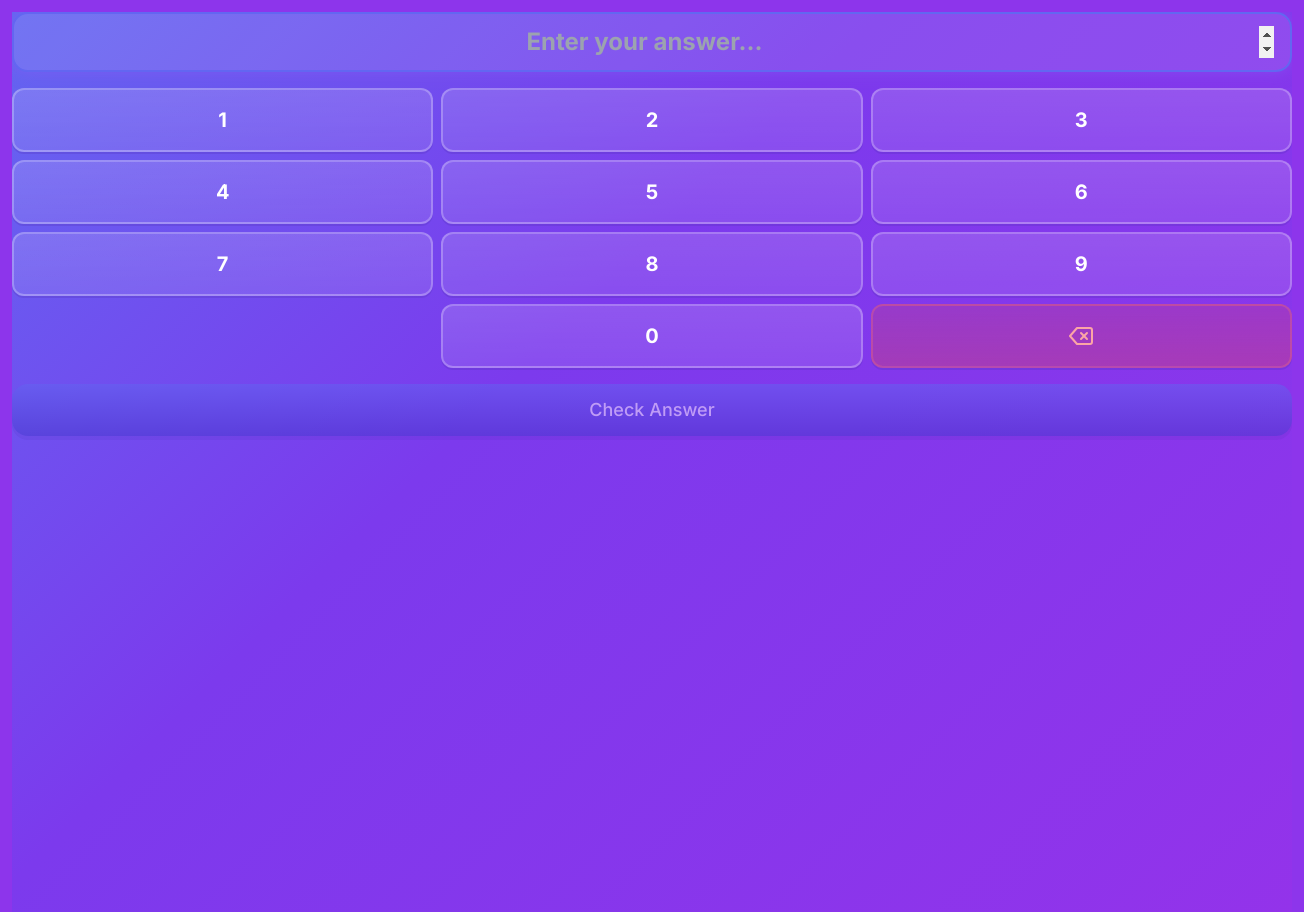
AnswerInput › number pad interaction › should delete last character when backspace is clicked
Click the button "1": (223, 120) [12,88,433,152]
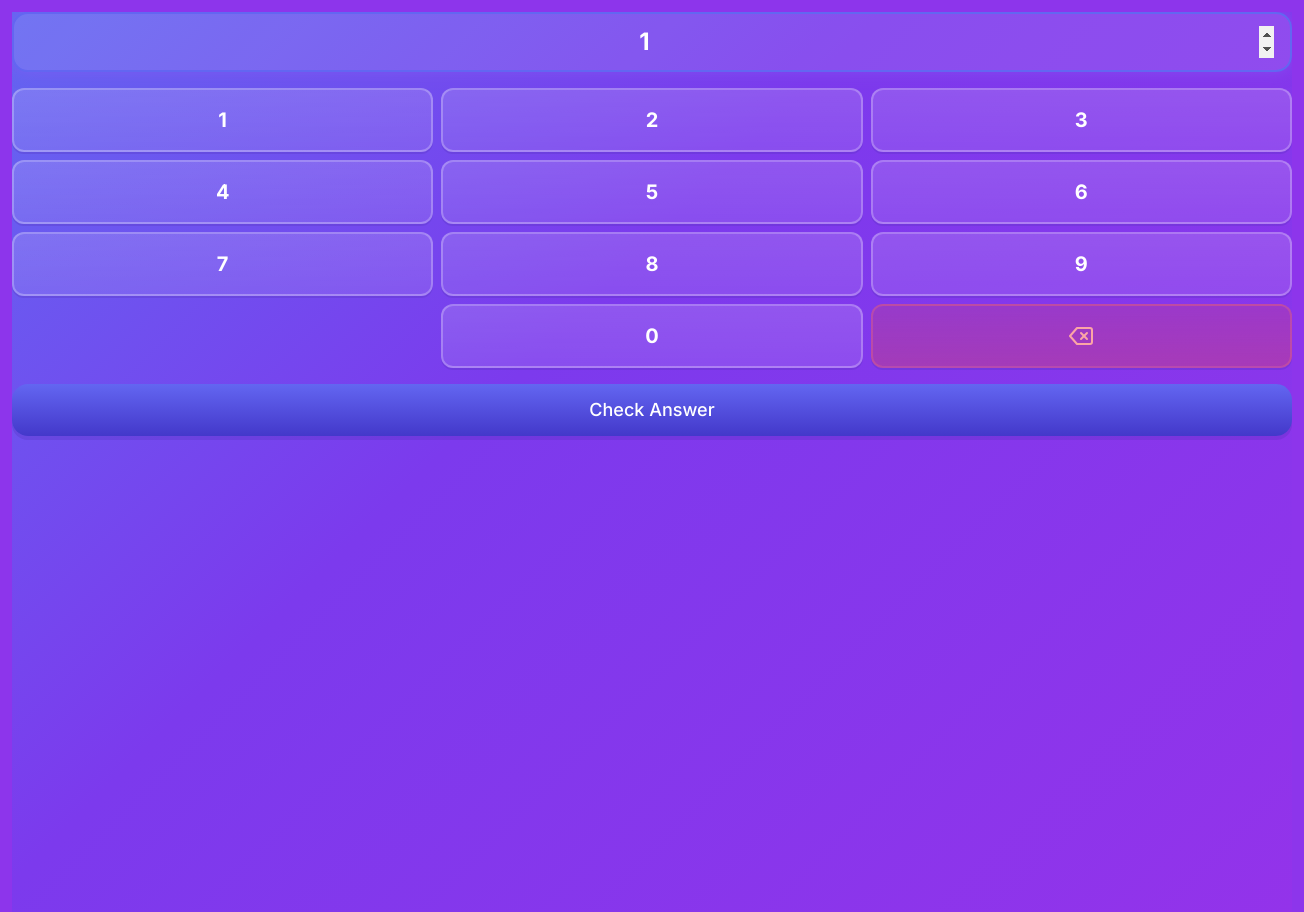
Click the button "5": (652, 192) [441,160,863,224]
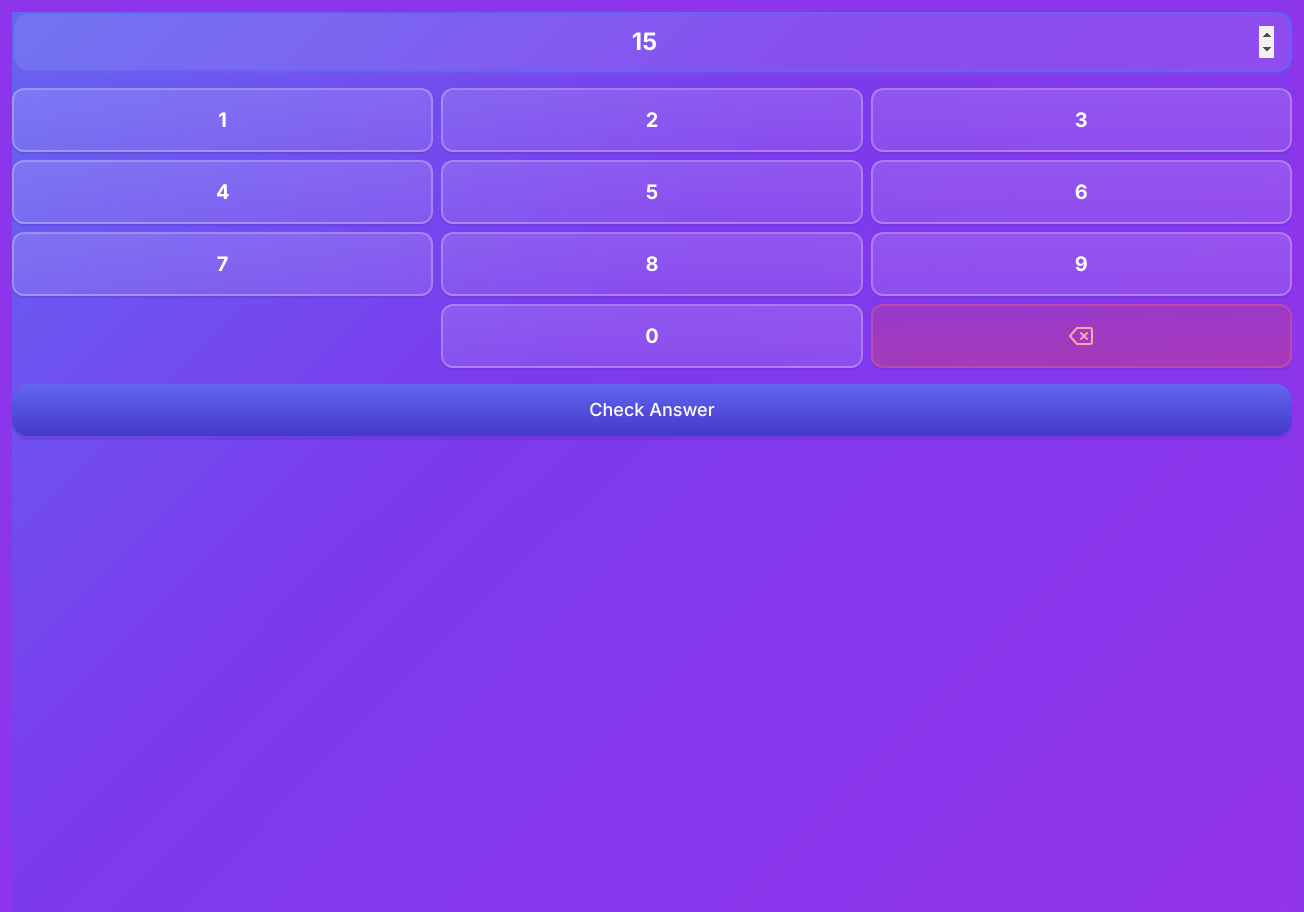
Click the button named "Backspace": (1081, 336) [871,304,1292,368]
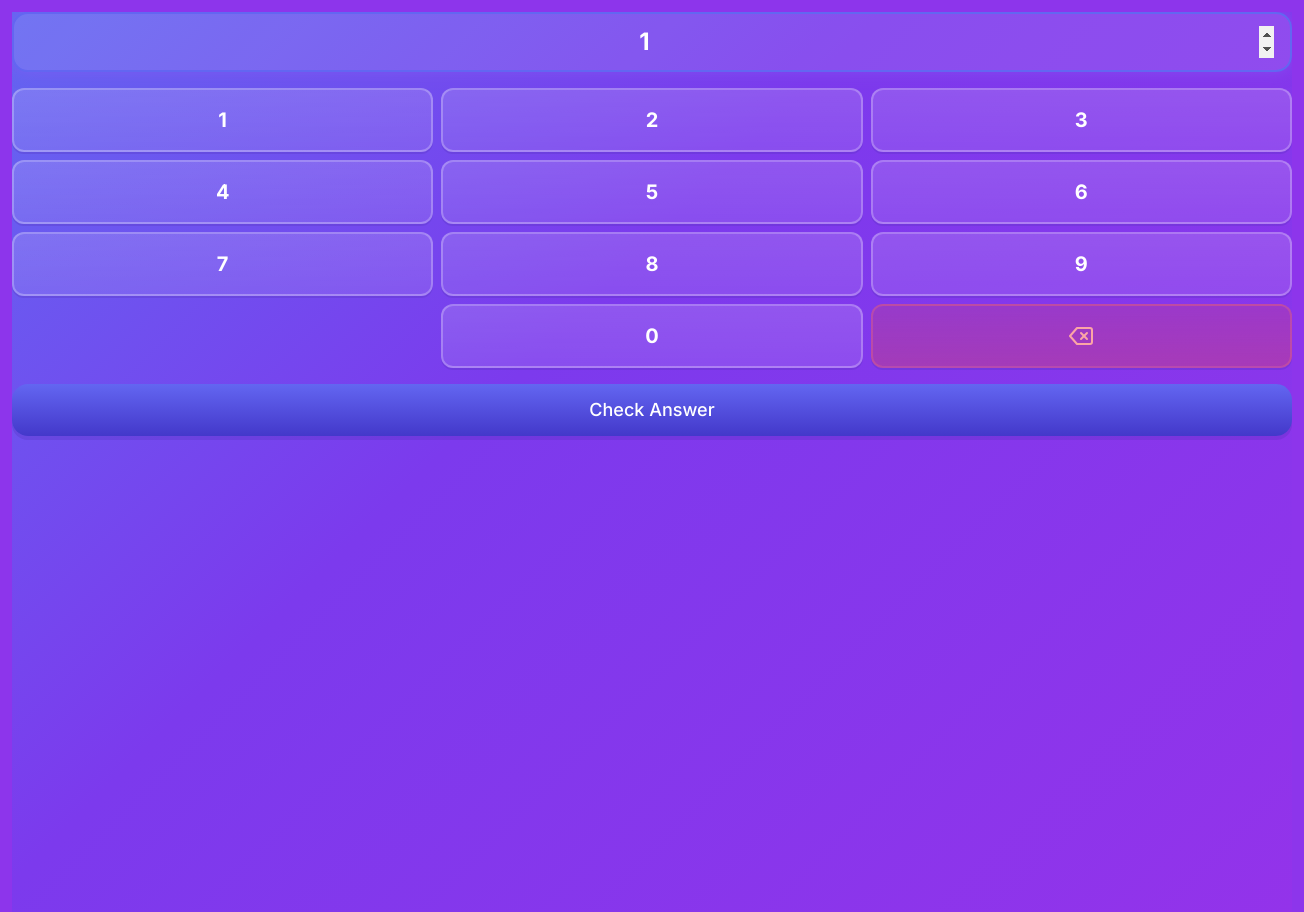
Check: the number field with placeholder "Enter your answer..." holds "1", box [12,12,1292,72]
